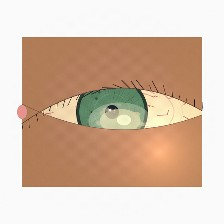corneal_ulcer: (87, 94, 153, 147)
